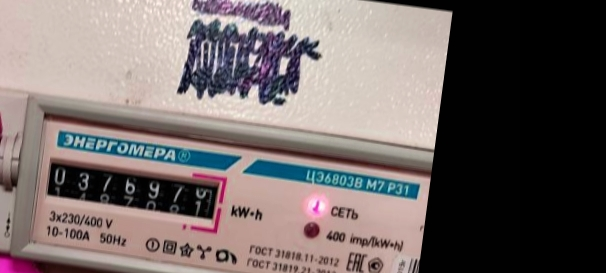0: (52, 164, 67, 185)
1: (191, 197, 204, 216)
3: (75, 169, 91, 190)
6: (122, 172, 138, 195)
7: (98, 170, 114, 192), (170, 180, 184, 204)
9: (146, 177, 160, 200)
screen: (35, 147, 232, 234)
